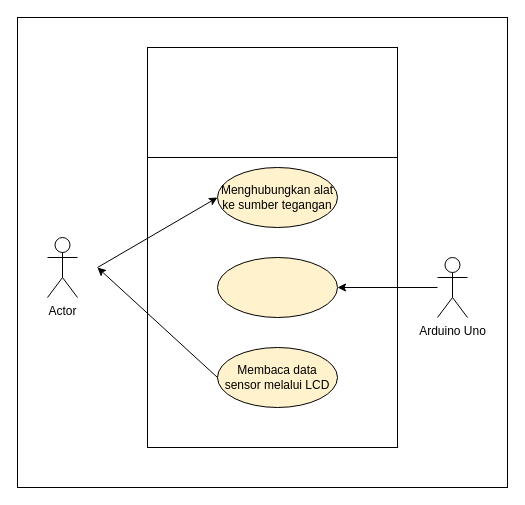
Image size: 525x505. Some labels were removed from this diagram. The centre of each missing label's shape, as x and y in pixels:
mengirim data sensor: (277,287)
use case diagram SISTEM OTOMATISASI ALAT PENJEMUR IKAN ASIN BERBASIS ARDUINO: (272,102)
